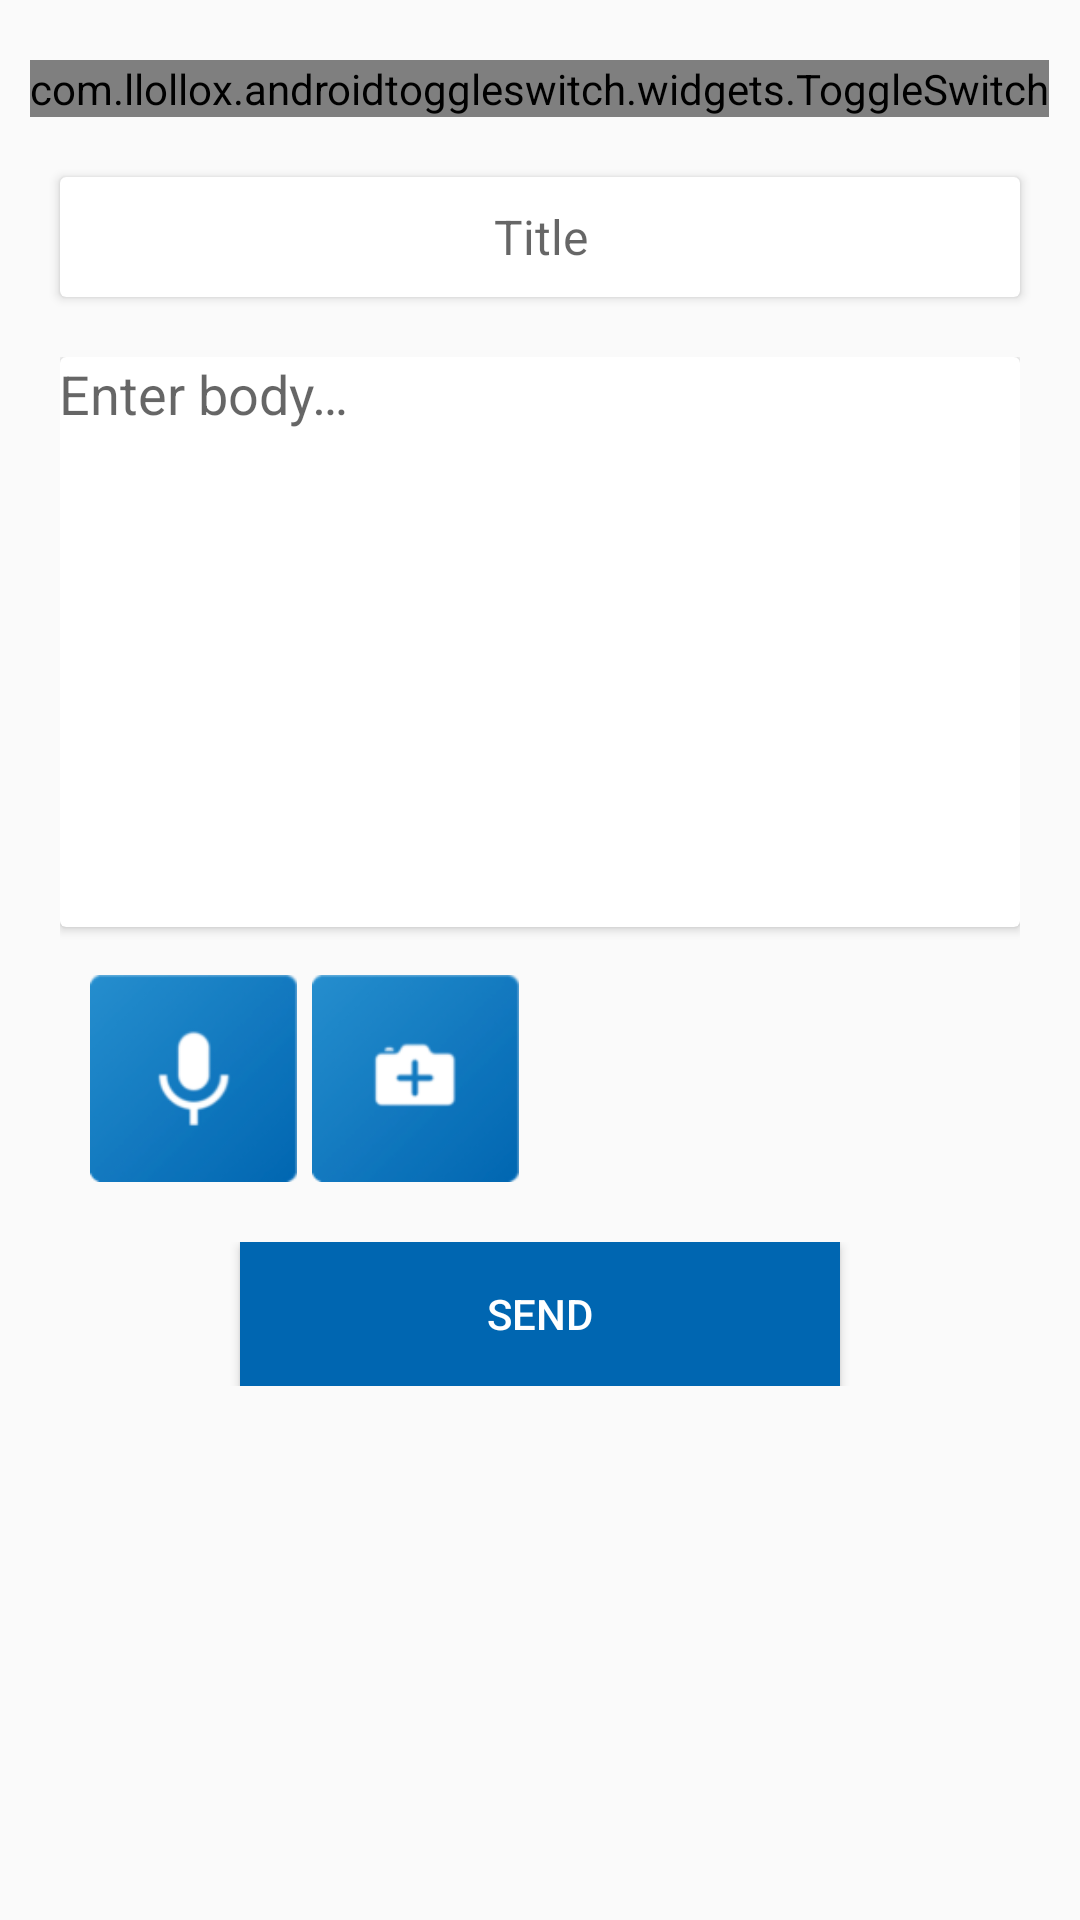

Icons on this 1080px x 1920px Android screen, each with its box as bbox(x1, y1, x2, y2):
caputure: bbox(312, 975, 519, 1182)
sound: bbox(90, 975, 297, 1182)
